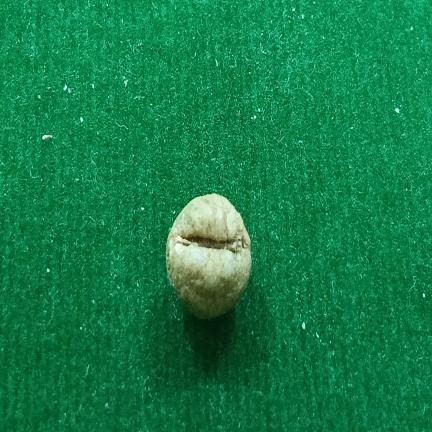good: (166, 193, 251, 319)
